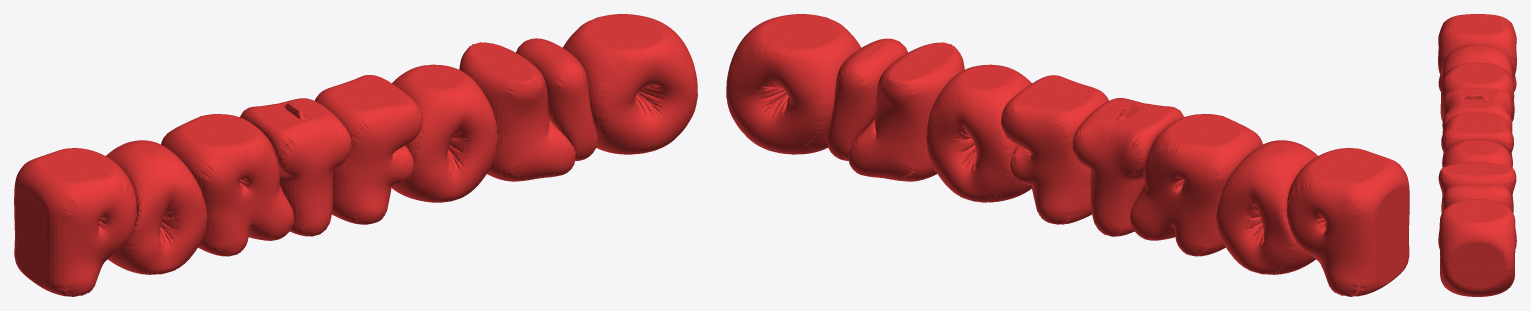
File: portfolio_bubble_text.glb
3 renders of one model, left to right at view 1: azimuth 30°, elevation 25°; view 2: azimuth 150°, elevation 25°; view 3: azimuth 270°, elevation 25°, orthographic. The views are drawn at different scales.
Parts seen in each view (by area): view 1: Text.003; view 2: Text.003; view 3: Text.003.
Boxes of the visible parts, x1=… form: Text.003: x1=14, y1=14, x2=697, y2=296; Text.003: x1=726, y1=14, x2=1409, y2=296; Text.003: x1=1438, y1=14, x2=1516, y2=296.
Bounding box in the file's own units: 36.87 × 6.15 × 5.61.
